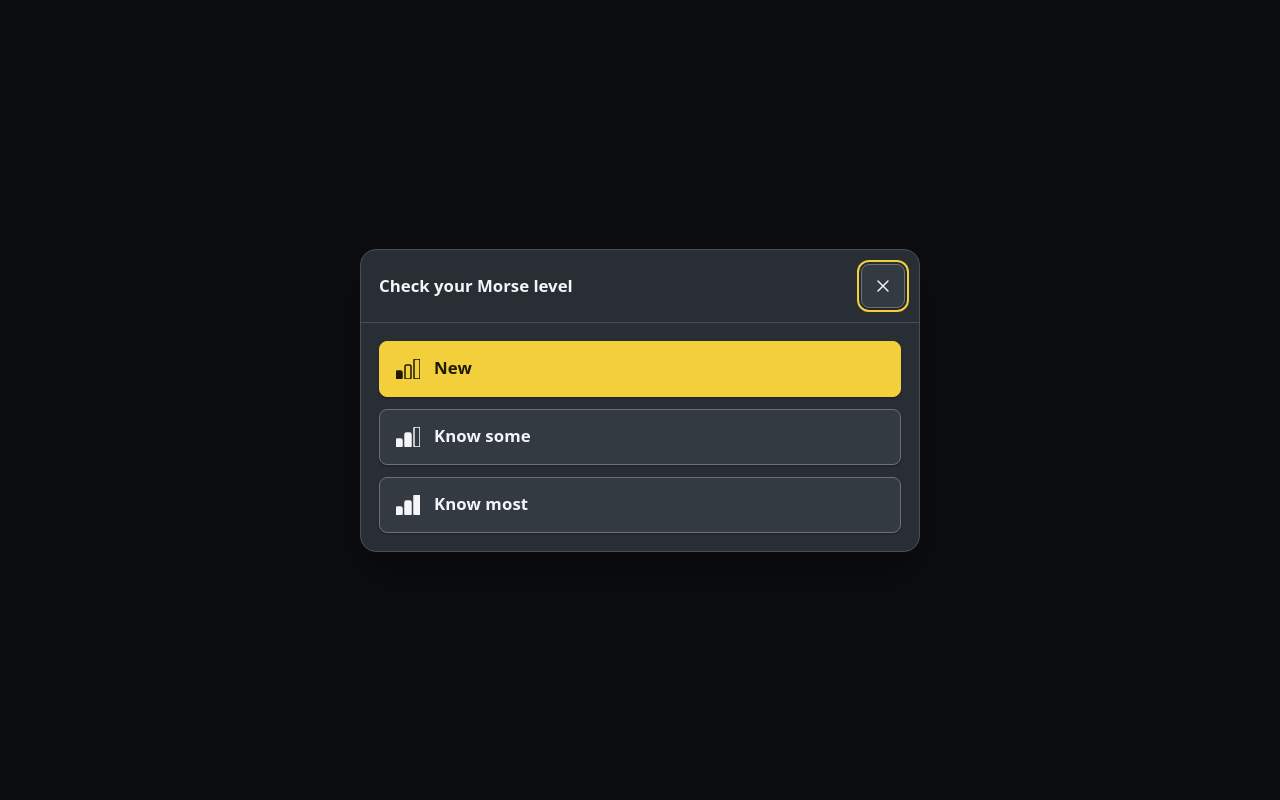
fresh Morse lesson boundary › New to Morse records the decision and enters the canonical lesson without re-prompting
Click the button with aria-label "New to Morse": (453, 368) [379,340,901,396]
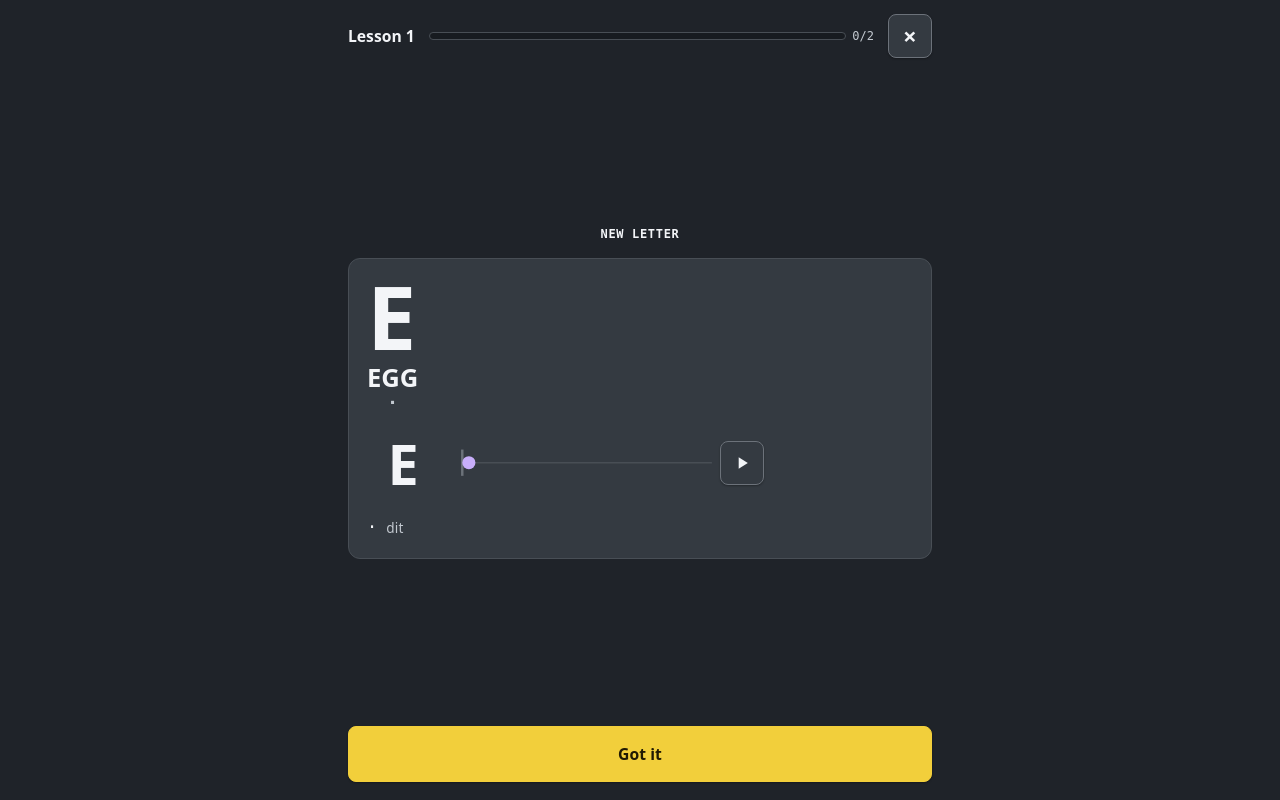
Expected: the heading "Check your Morse level" is gone
